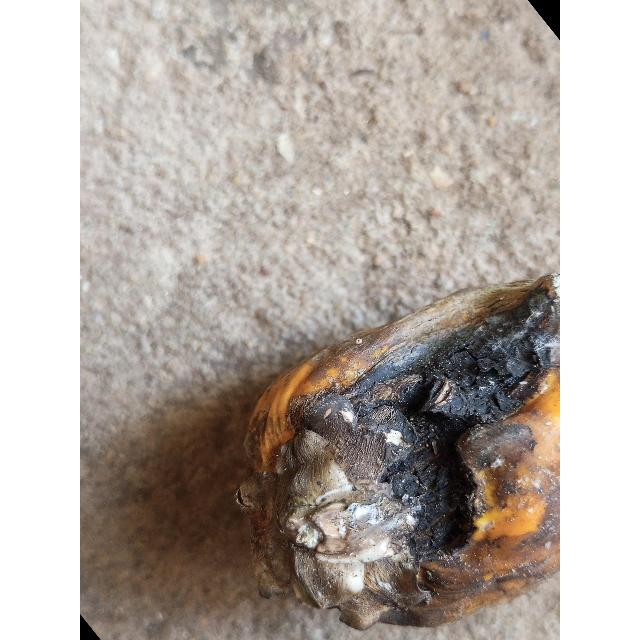damaged: (236, 275, 560, 636)
